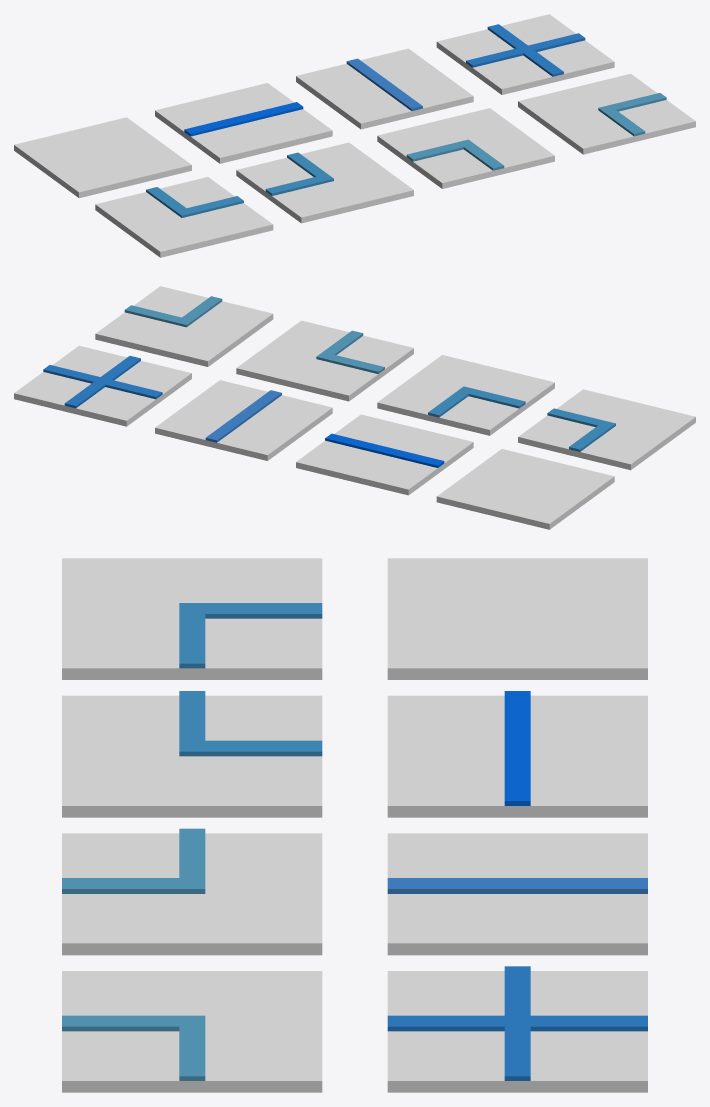
Rendered from 3DTile6.fbx.
3 views of the same model, one above another, from view 1: azimuth 30°, elevation 25°; view 2: azimuth 150°, elevation 25°; view 3: azimuth 270°, elevation 25° (orthographic). The views are drawn at different scales.
Parts seen in each view (by area): view 1: tile3, tile4, tile2, tile5, tile7, tile1, tile0, tile6; view 2: tile7, tile3, tile6, tile2, tile4, tile1, tile0, tile5; view 3: tile6, tile1, tile5, tile2, tile3, tile4, tile0, tile7.
Part boxes in pixels (bbox=[...]): tile3: bbox=[436, 14, 614, 94]; tile4: bbox=[95, 177, 273, 257]; tile2: bbox=[296, 48, 473, 129]; tile5: bbox=[236, 142, 413, 223]; tile7: bbox=[518, 73, 695, 154]; tile1: bbox=[155, 83, 332, 163]; tile0: bbox=[14, 117, 191, 198]; tile6: bbox=[377, 108, 554, 188]; tile7: bbox=[95, 286, 273, 366]; tile3: bbox=[14, 345, 191, 426]; tile6: bbox=[236, 320, 413, 401]; tile2: bbox=[155, 380, 332, 460]; tile4: bbox=[518, 389, 695, 470]; tile1: bbox=[296, 414, 473, 495]; tile0: bbox=[436, 449, 614, 529]; tile5: bbox=[377, 355, 554, 435]; tile6: bbox=[62, 828, 322, 955]; tile1: bbox=[387, 691, 647, 817]; tile5: bbox=[62, 691, 322, 817]; tile2: bbox=[387, 833, 647, 955]; tile3: bbox=[387, 966, 647, 1092]; tile4: bbox=[62, 558, 322, 679]; tile0: bbox=[387, 558, 647, 679]; tile7: bbox=[62, 971, 322, 1092].
Size of the model in its own units: 95000 by 1400 by 45000.
